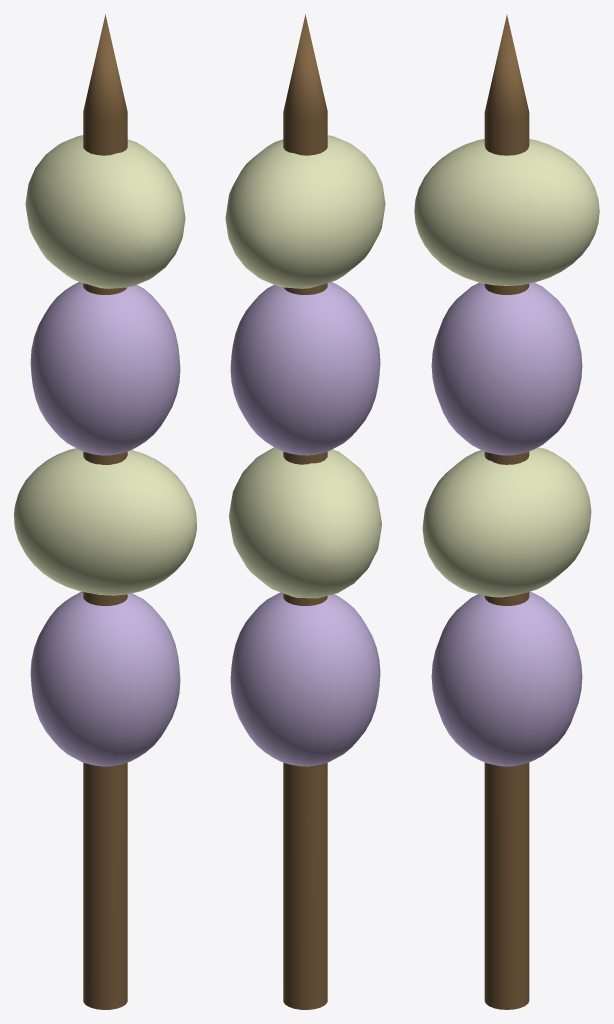
File: brochettes.fbx
The picture shows the model from 3 angles, left to right: view 1: azimuth 30°, elevation 25°; view 2: azimuth 150°, elevation 25°; view 3: azimuth 270°, elevation 25°; orthographic projection.
Visible parts, largest first — view 1: pSphere4, pSphere1, pSphere2, pSphere3, pCylinder1; view 2: pSphere1, pSphere2, pSphere3, pSphere4, pCylinder1; view 3: pSphere3, pSphere1, pSphere2, pSphere4, pCylinder1.
Boxes of the visible parts, x1=… form: pSphere4: x1=14, y1=448, x2=196, y2=595; pSphere1: x1=30, y1=591, x2=180, y2=766; pSphere2: x1=30, y1=282, x2=180, y2=455; pSphere3: x1=25, y1=135, x2=185, y2=288; pCylinder1: x1=83, y1=14, x2=127, y2=1009; pSphere1: x1=230, y1=592, x2=380, y2=766; pSphere2: x1=230, y1=282, x2=380, y2=455; pSphere3: x1=225, y1=135, x2=385, y2=288; pSphere4: x1=229, y1=447, x2=381, y2=598; pCylinder1: x1=283, y1=14, x2=327, y2=1009; pSphere3: x1=414, y1=139, x2=599, y2=285; pSphere1: x1=431, y1=591, x2=582, y2=766; pSphere2: x1=431, y1=282, x2=582, y2=455; pSphere4: x1=422, y1=447, x2=591, y2=597; pCylinder1: x1=484, y1=15, x2=529, y2=1009.
Bounding box in the file's own units: 3.92 × 25.26 × 4.3.
